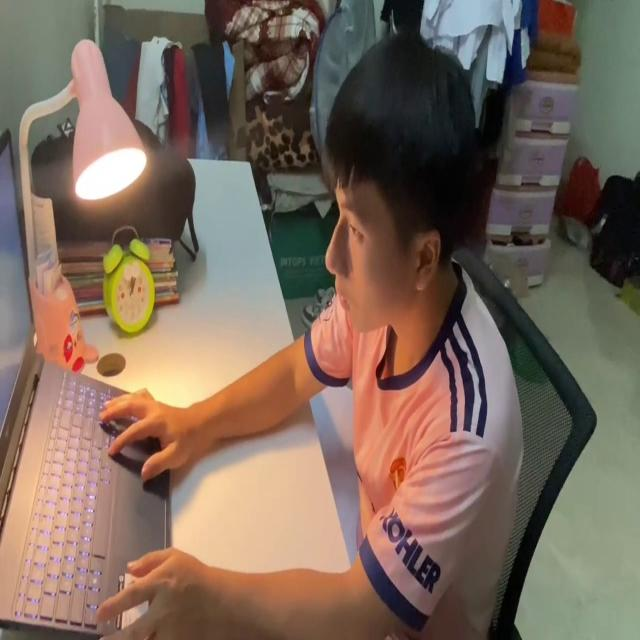book: (309, 381, 361, 570)
laptop: (0, 126, 172, 640)
student: (98, 19, 523, 640)
